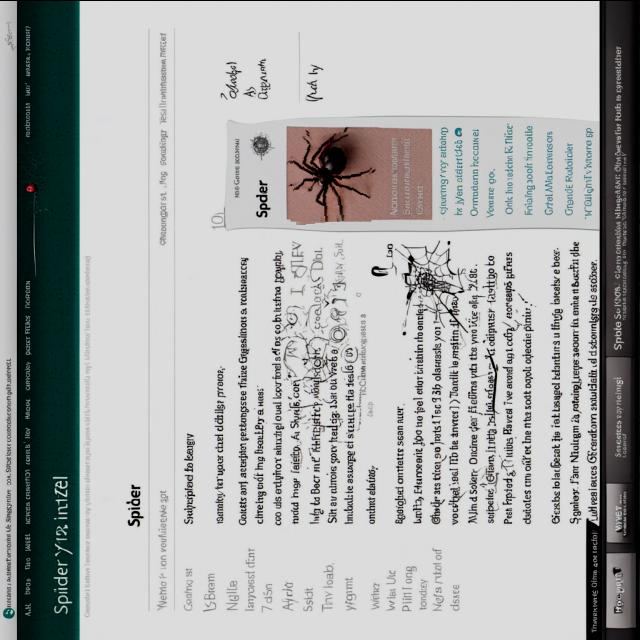spider: (289, 130, 374, 222)
